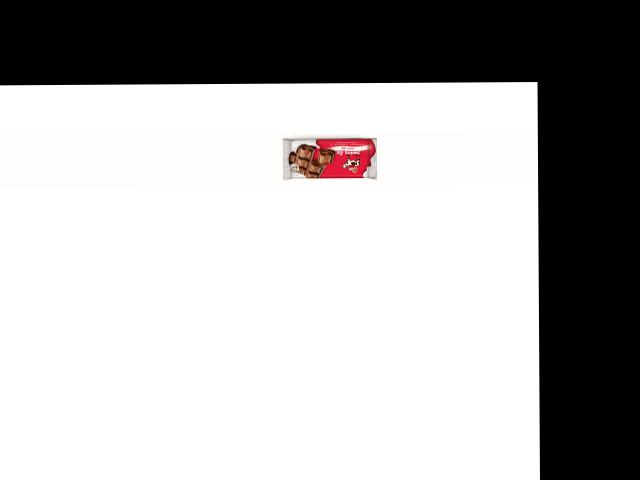chocolate: (280, 115, 392, 174)
